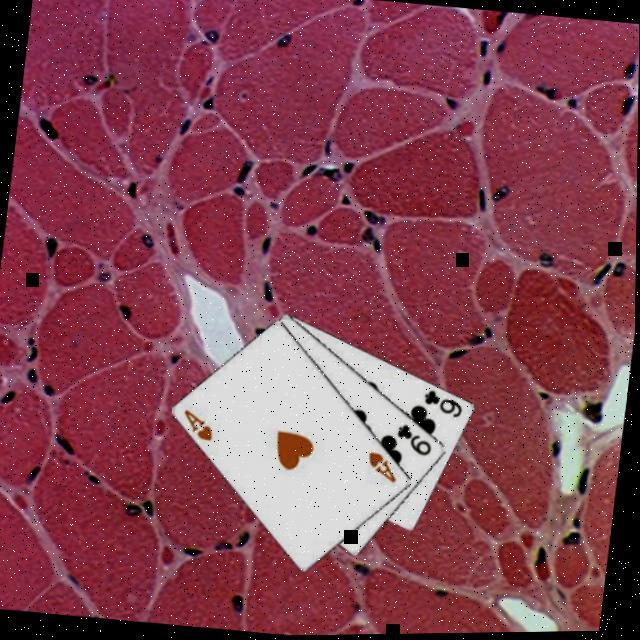6C: (422, 384, 469, 421)
9C: (395, 419, 440, 459)
AH: (181, 404, 221, 443), (366, 446, 405, 485)
